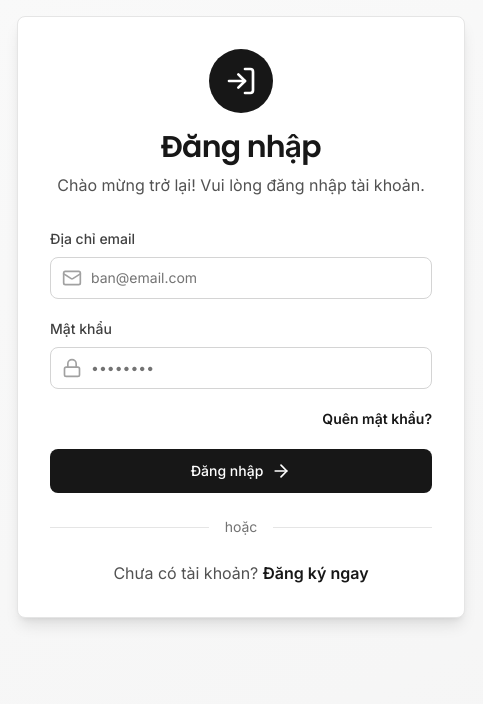
Test: LoginPage › shows generic error from login failure
Type "user@example.com" into the field with placeholder "ban@email.com" at (241, 278), box [50, 257, 432, 299]
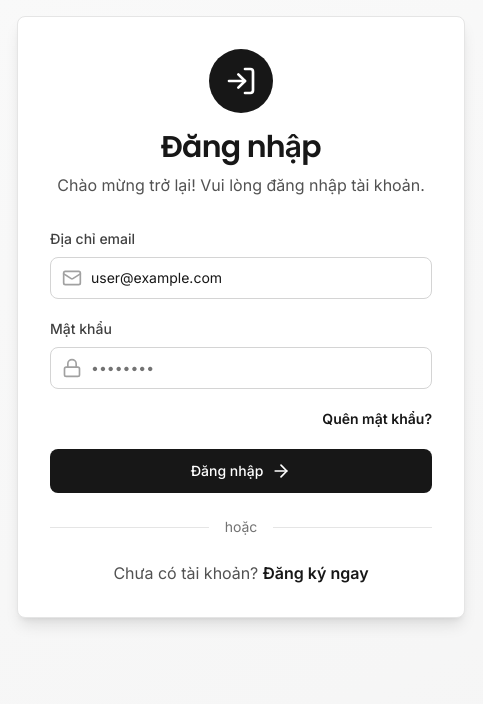
Type "wrong" into the password field with placeholder "••••••••" at (241, 368), box [50, 347, 432, 389]
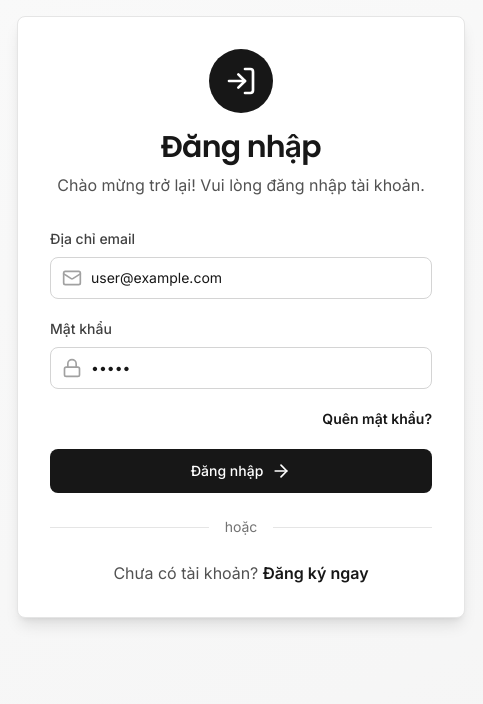
Click the submit button at (241, 471), box [50, 449, 432, 493]
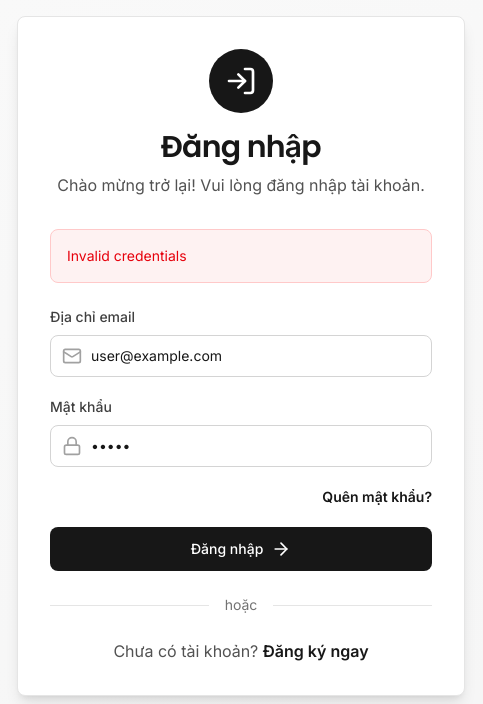
Expected: the text "Invalid credentials" is shown, [67, 247, 187, 264]
